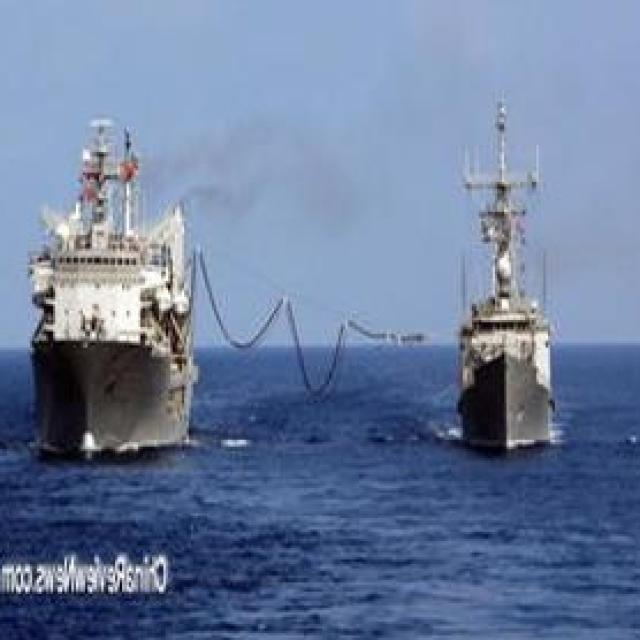navalvessels: (40, 104, 226, 452), (453, 112, 574, 450)
